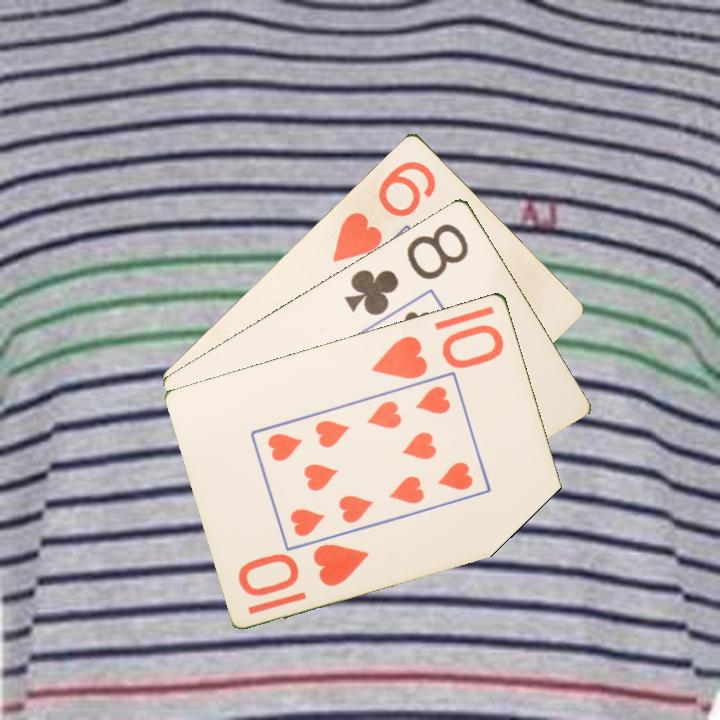10h: (367, 320, 507, 382), (234, 539, 373, 599)
6h: (328, 156, 439, 265)
8c: (340, 219, 472, 319)
